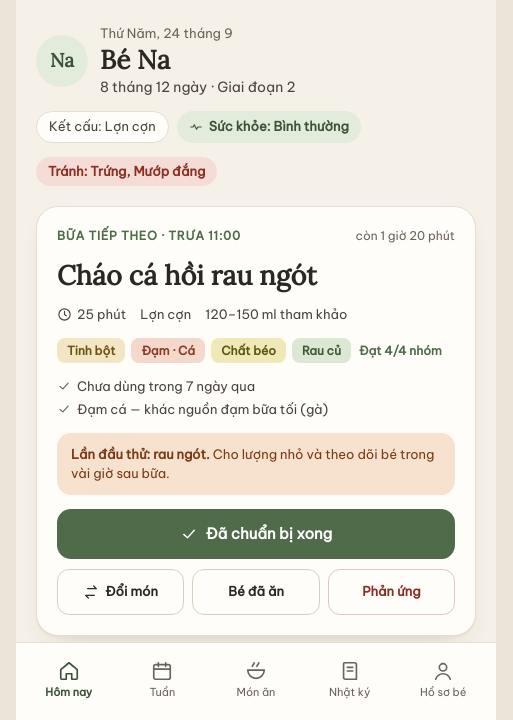
Test: Today (S01) › marks the meal prepared at once, then puts "Bé đã ăn" first (FR-025, optimistic)
Click the button "Đã chuẩn bị xong" at (256, 534), box [57, 509, 455, 559]
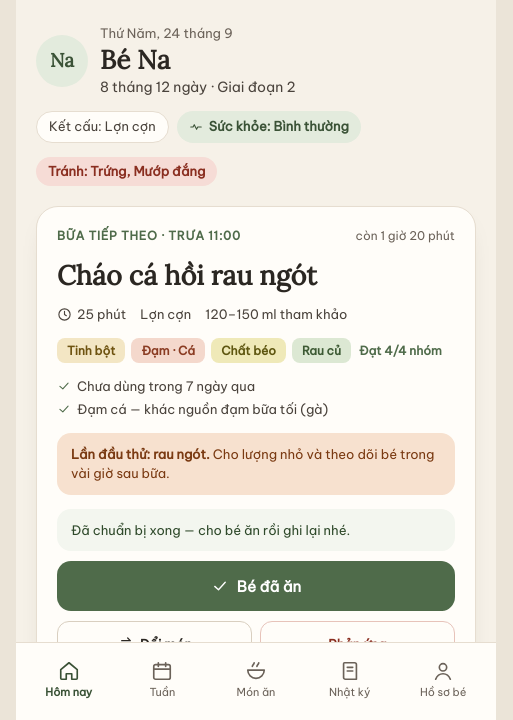
expect the link "Đổi món" is shown: met, box [57, 622, 252, 668]
expect the text "Đã chuẩn bị xong — cho bé ăn rồi ghi lại nhé." is shown: met, box [71, 521, 350, 539]
expect the number of links "Bé đã ăn" is 1: met, box [57, 562, 455, 612]
